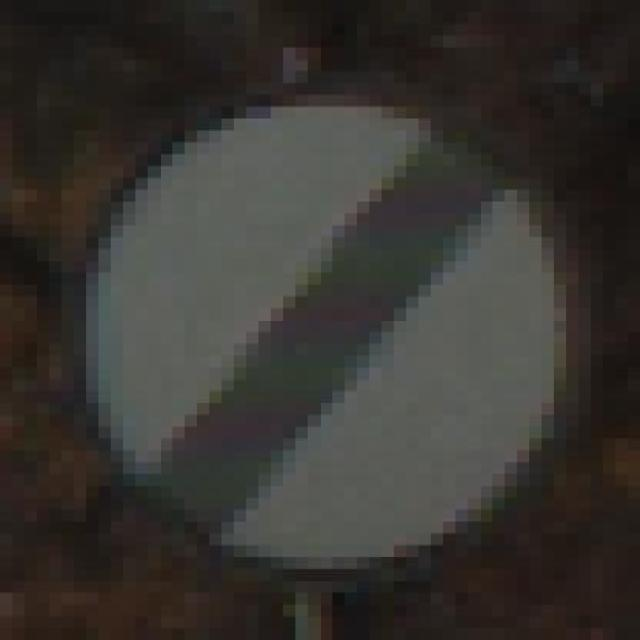End of all speed and passing limits: (74, 70, 591, 582)
